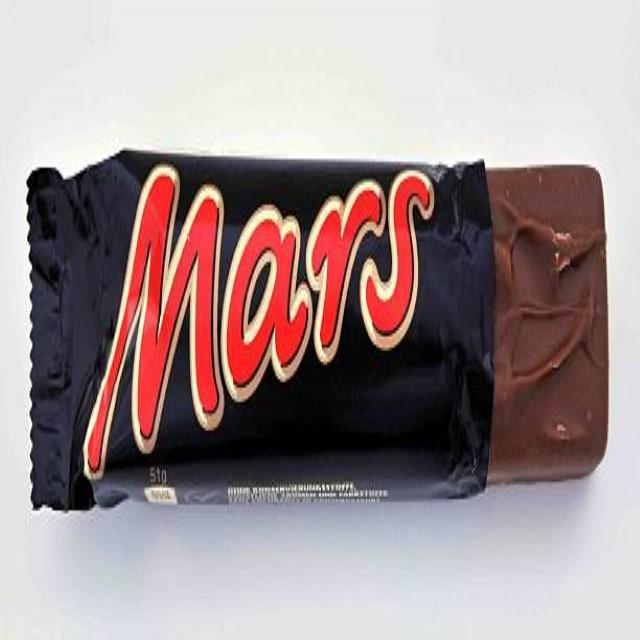mars_chocolate: (49, 185, 494, 498)
